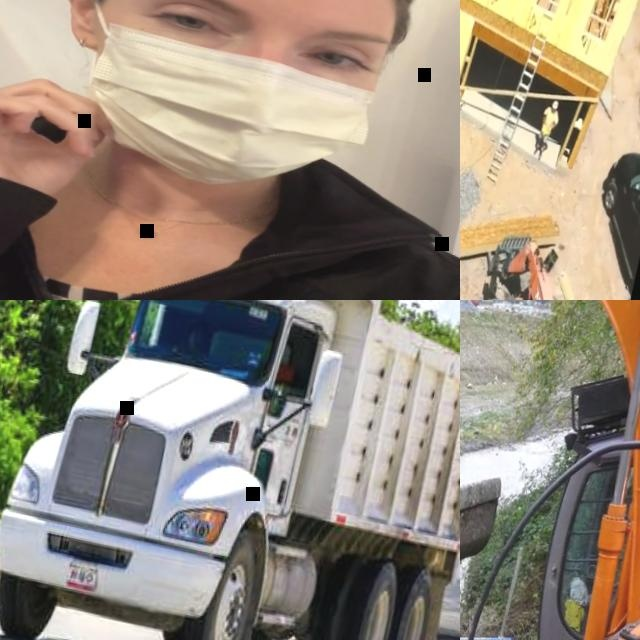Hardhat: (551, 100, 560, 110)
Mask: (72, 0, 408, 205)
NO-Mask: (551, 110, 555, 114)
NO-Safety Vest: (0, 113, 460, 300)
Person: (0, 0, 460, 300), (532, 98, 563, 164)
Safety Vest: (542, 109, 557, 133)
machinery: (0, 300, 460, 640), (460, 300, 640, 640), (460, 228, 639, 300), (460, 300, 480, 307)
vehicle: (579, 145, 640, 300), (425, 492, 460, 640)
